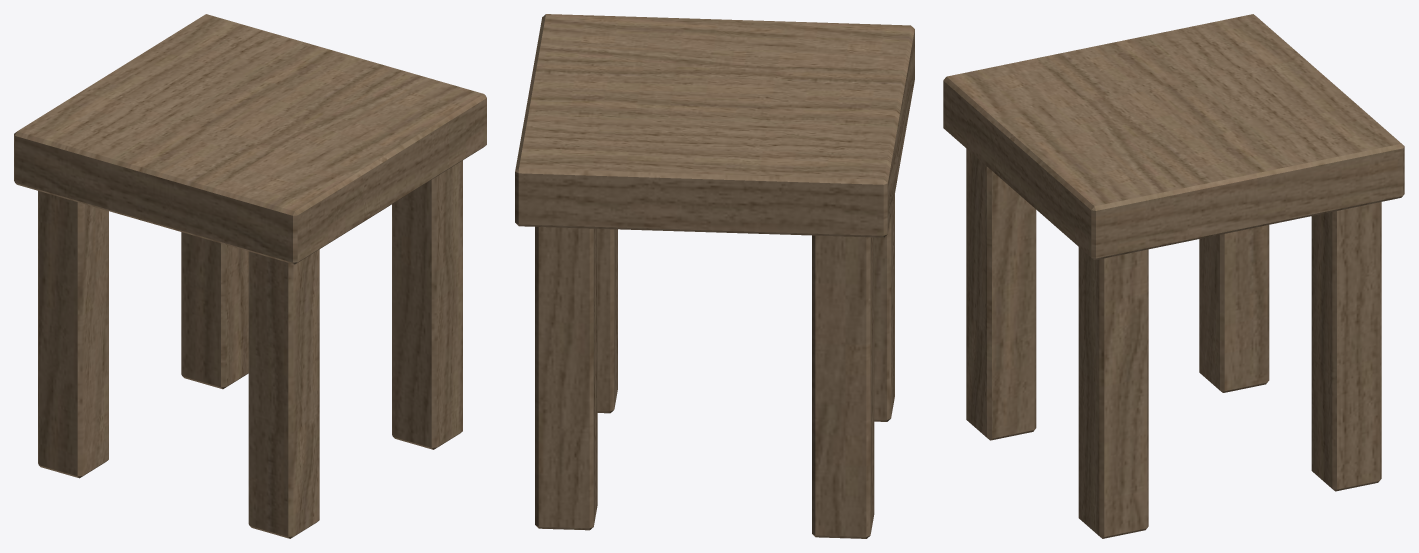
The model's file is Small stool.fbx.
3 renders of one model, left to right at view 1: azimuth 30°, elevation 25°; view 2: azimuth 150°, elevation 25°; view 3: azimuth 270°, elevation 25°, orthographic. The views are drawn at different scales.
Visible parts, largest first — view 1: Small stool; view 2: Small stool; view 3: Small stool.
Part boxes in pixels (x1,y1,x2,y2): Small stool: (14,14,486,538); Small stool: (515,14,914,538); Small stool: (943,14,1404,538).
Bounding box in the file's own units: 38.35 × 31.39 × 38.35.
